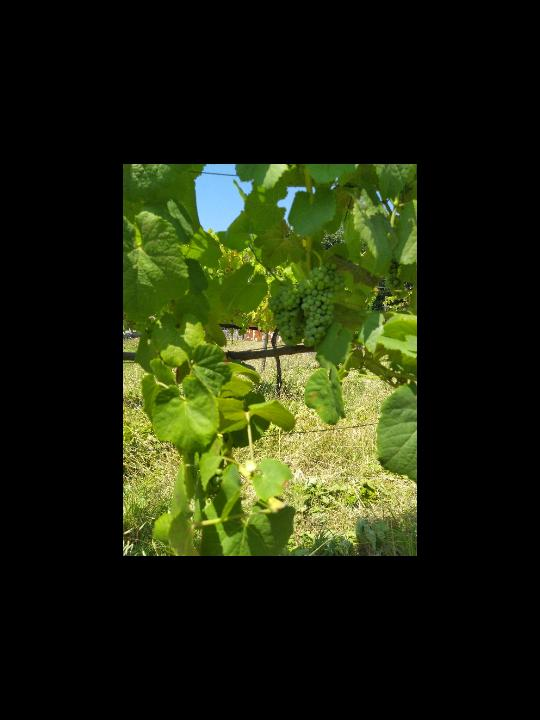grape: (300, 261, 346, 348), (266, 285, 307, 347)
